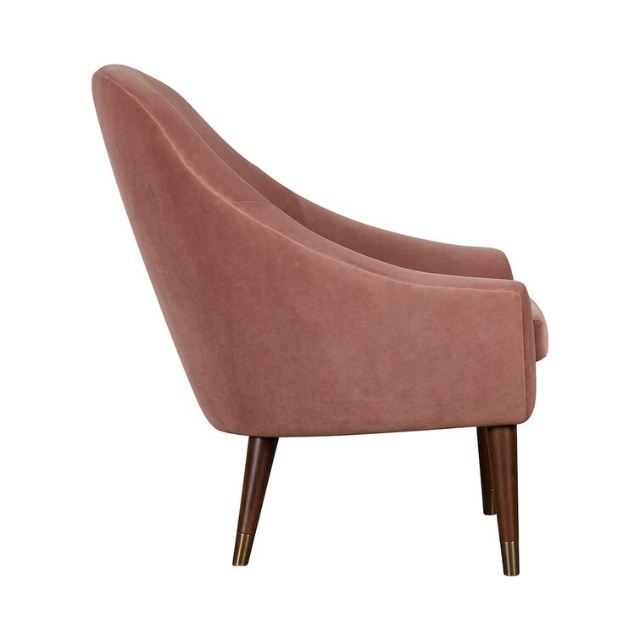obstacle: (92, 65, 547, 575)
